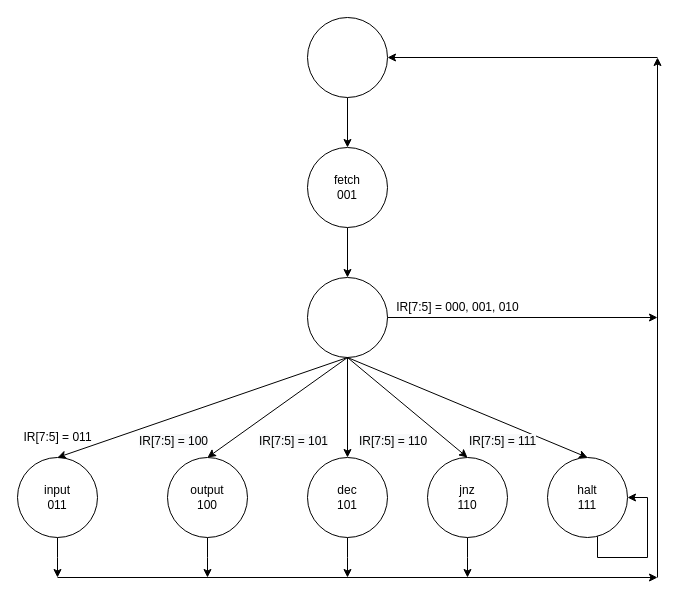
Image size: 683x603. Some labels were removed from this diagram. Each missing label, with the centre of its shape:
decode 010: the point at 347,317
start 000: the point at 347,57
